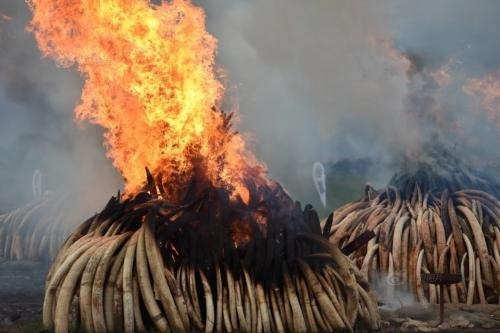fire: (22, 0, 282, 215)
